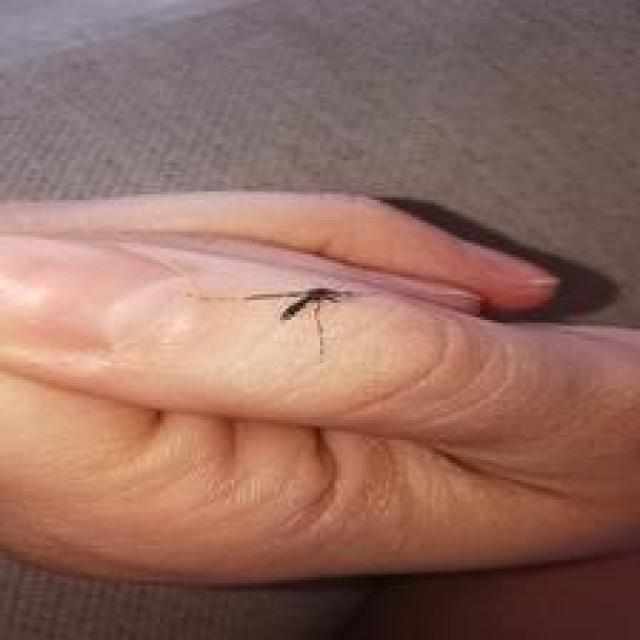Aedes albopictus: (246, 284, 357, 362)
